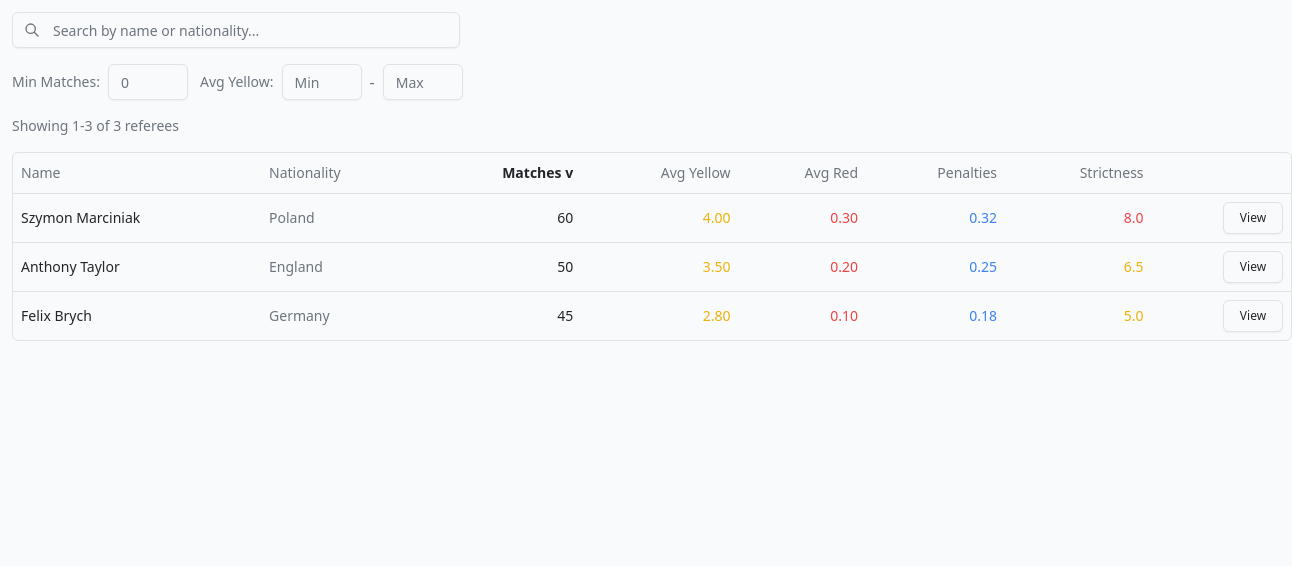
Test: RefereeDataTable › shows no referees found when search has no results
Type "xyz123" into the search field with placeholder "Search by name or nationality...".
click(236, 30); type("xyz123")  # box [12, 12, 460, 48]
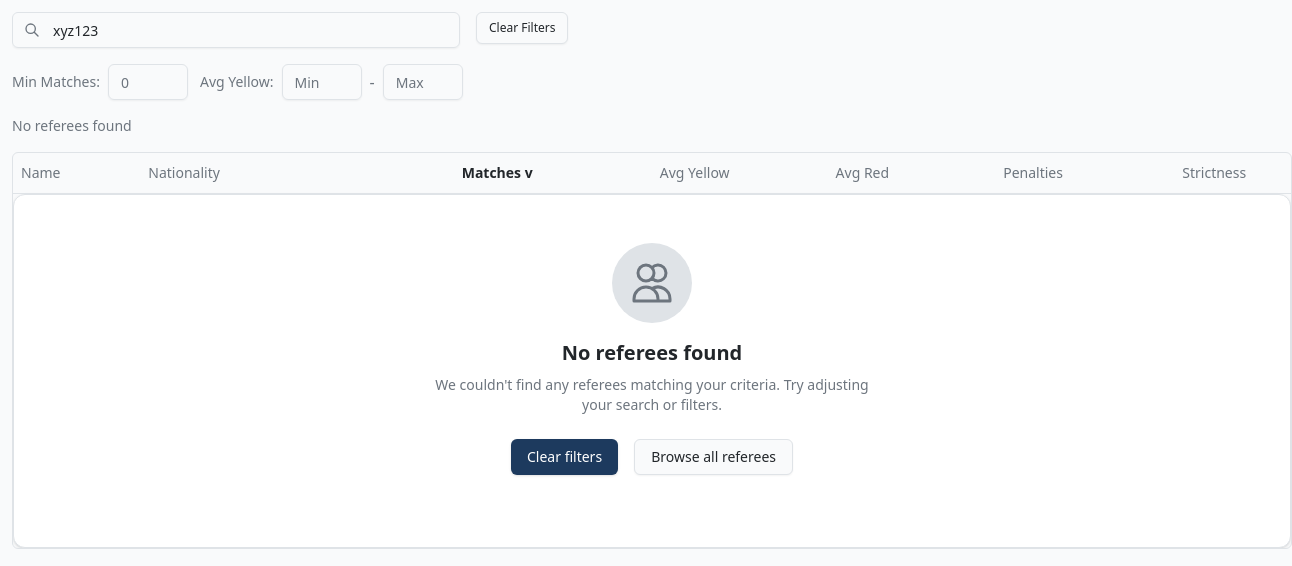
Expected: the text "No referees found" is shown, [12, 116, 132, 136]
